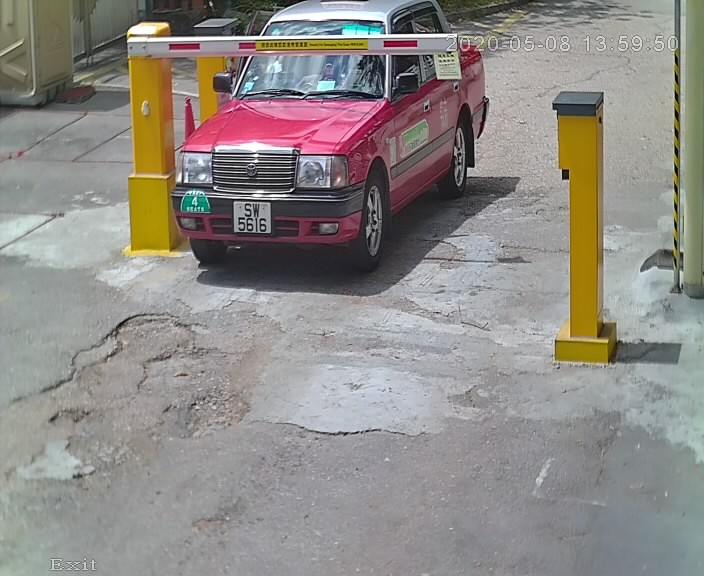taxi: (140, 2, 499, 291)
taxi_mark: (175, 185, 221, 226)
